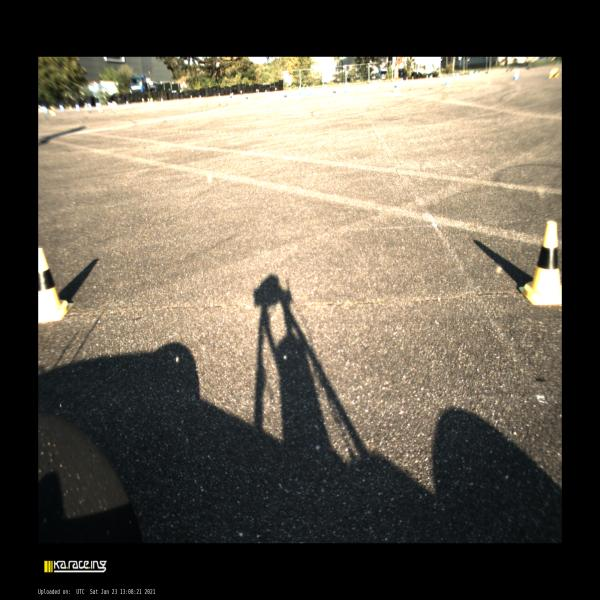blue_cone: (513, 70, 518, 80), (344, 82, 348, 93), (75, 104, 81, 111), (445, 75, 449, 85), (298, 85, 302, 95), (87, 102, 92, 110), (59, 105, 65, 111), (308, 87, 312, 95), (108, 101, 113, 107), (44, 106, 48, 113), (397, 80, 400, 88), (323, 84, 327, 90), (96, 103, 100, 109), (475, 70, 478, 76), (456, 72, 458, 78), (453, 72, 455, 78), (429, 75, 431, 81), (306, 85, 308, 91), (199, 94, 202, 98), (401, 78, 403, 83), (161, 98, 163, 102), (265, 89, 267, 93)
yellow_cone: (519, 221, 561, 306), (39, 247, 74, 323), (550, 68, 558, 78), (50, 106, 56, 115), (393, 82, 398, 92), (332, 87, 337, 97), (283, 92, 288, 102), (98, 102, 103, 112), (229, 93, 233, 102), (38, 105, 43, 112), (84, 102, 88, 110), (245, 94, 249, 102), (68, 104, 72, 110), (147, 98, 150, 102), (256, 88, 258, 94), (142, 98, 144, 103), (406, 77, 408, 81), (412, 76, 414, 80), (426, 74, 428, 78), (431, 74, 433, 78), (190, 95, 192, 98)
